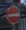No entry: (5, 5, 21, 25)
